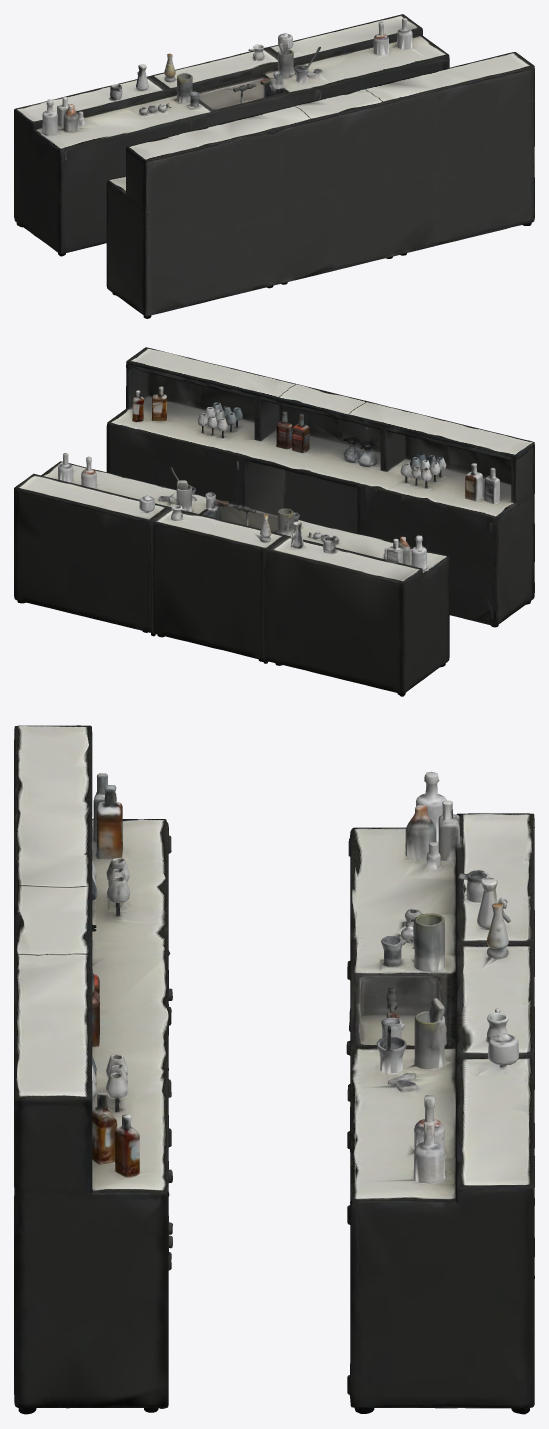
The model's file is bar.glb.
3 views of the same model, one above another, from view 1: azimuth 30°, elevation 25°; view 2: azimuth 150°, elevation 25°; view 3: azimuth 270°, elevation 25° (orthographic). The views are drawn at different scales.
Visible parts, largest first — view 1: tripo_node_525df478-bb49-42ae-b25d-bb1a08605a25; view 2: tripo_node_525df478-bb49-42ae-b25d-bb1a08605a25; view 3: tripo_node_525df478-bb49-42ae-b25d-bb1a08605a25.
Part boxes in pixels (x1,y1,x2,y2): tripo_node_525df478-bb49-42ae-b25d-bb1a08605a25: [14, 14, 534, 318]; tripo_node_525df478-bb49-42ae-b25d-bb1a08605a25: [14, 347, 534, 696]; tripo_node_525df478-bb49-42ae-b25d-bb1a08605a25: [14, 725, 534, 1414].
Size of the model in its own units: 0.9999 by 0.3936 by 0.5867.
Materials: 1 (1 with a texture image).
